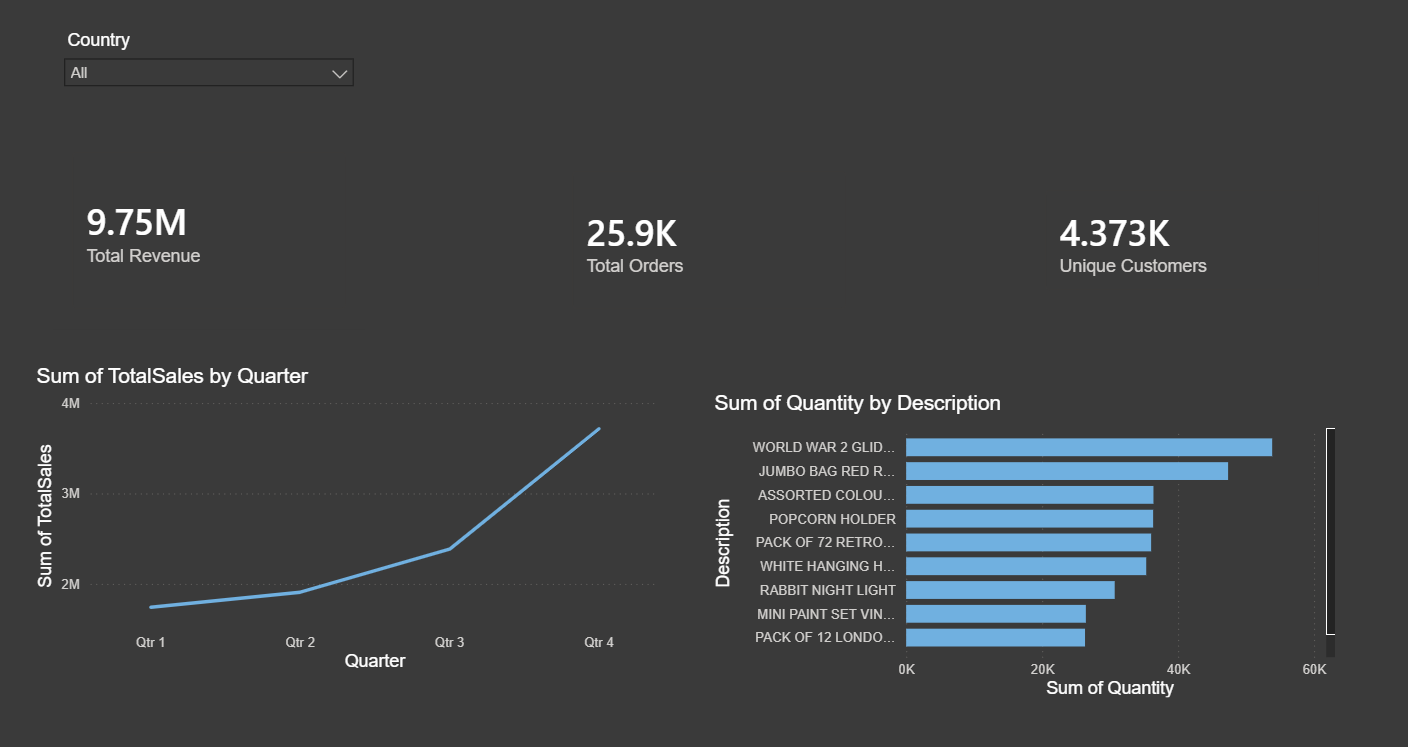

The page's visual inventory and layout, read from the dashboard file:
{"tool":"powerbi","page":{"name":"Page 1","canvas":[1280,720],"ordinal":0},"visuals":[{"type":"cardVisual","fields":{"Data":["Sum(cleaned_ecommerce_data.TotalSales)"]},"box":[51.4,128.6,280,175.7],"z":0},{"type":"cardVisual","fields":{"Data":["Count(cleaned_ecommerce_data.InvoiceNo)"]},"box":[500,145.7,280,158.6],"z":1000},{"type":"cardVisual","fields":{"Data":["Count(cleaned_ecommerce_data.CustomerID)"]},"box":[924.3,162.9,280,124.3],"z":2000},{"type":"lineChart","fields":{"Category":["cleaned_ecommerce_data.InvoiceDate.Variation.Date Hierarchy.Quarter","cleaned_ecommerce_data.InvoiceDate.Variation.Date Hierarchy.Month","cleaned_ecommerce_data.InvoiceDate.Variation.Date Hierarchy.Day"],"Y":["Sum(cleaned_ecommerce_data.TotalSales)"]},"box":[31.4,335.7,568.6,280],"z":3000},{"type":"clusteredBarChart","fields":{"Category":["cleaned_ecommerce_data.Description"],"Y":["Sum(cleaned_ecommerce_data.Quantity)"]},"box":[640,360,567.1,280],"z":4000},{"type":"slicer","fields":{"Values":["cleaned_ecommerce_data.Country"]},"box":[51.4,31.4,280,97.1],"z":5000}]}

Visuals, with their boxes on the page's 1280x720 design canvas (x1, y1, x2, y2). These are canvas units, not pixel positions in the 1408x747 screenshot, which may show the page scaled, cropped or inside an application window:
cardVisual - Sum(cleaned_ecommerce_data.TotalSales): detection(51, 129, 331, 304)
cardVisual - Count(cleaned_ecommerce_data.InvoiceNo): detection(500, 146, 780, 304)
cardVisual - Count(cleaned_ecommerce_data.CustomerID): detection(924, 163, 1204, 287)
lineChart - cleaned_ecommerce_data.InvoiceDate.Variation.Date Hierarchy.Quarter x cleaned_ecommerce_data.InvoiceDate.Variation.Date Hierarchy.Month: detection(31, 336, 600, 616)
clusteredBarChart - cleaned_ecommerce_data.Description x Sum(cleaned_ecommerce_data.Quantity): detection(640, 360, 1207, 640)
slicer - cleaned_ecommerce_data.Country: detection(51, 31, 331, 128)
